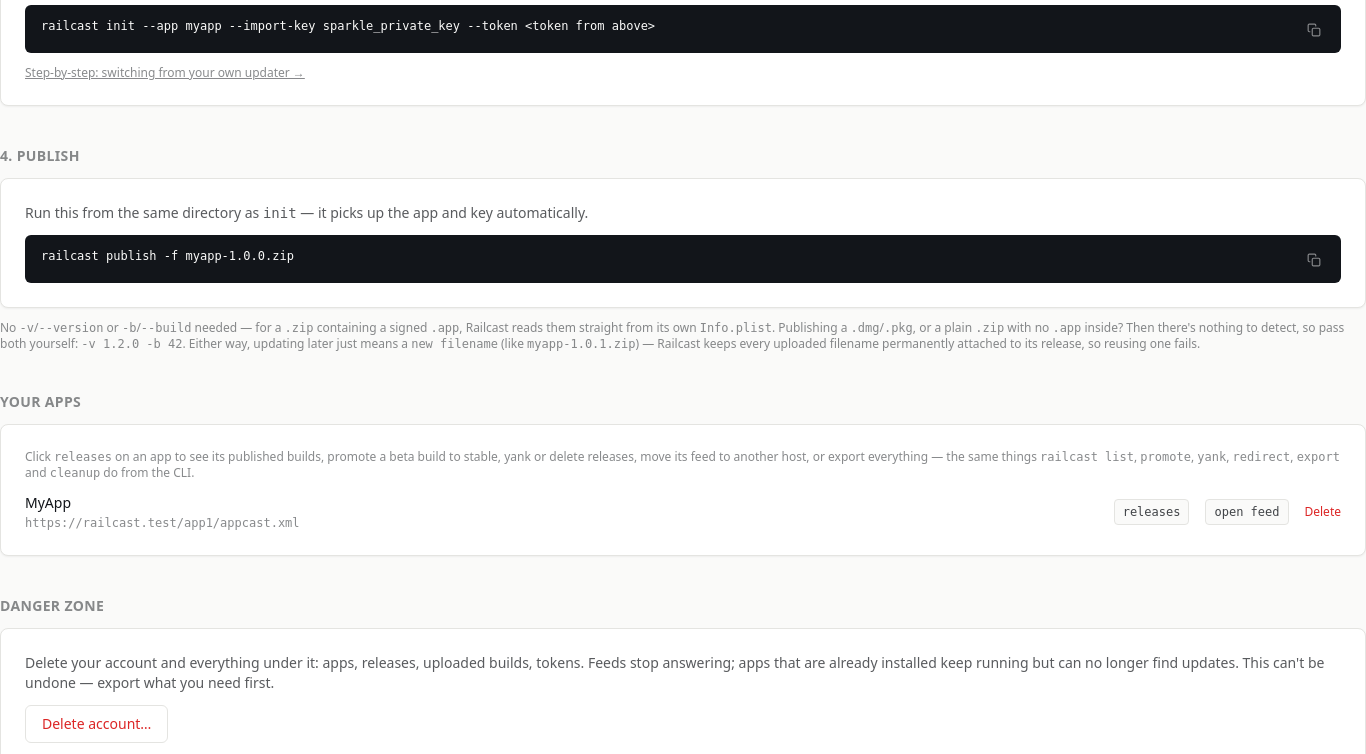
yank / restore › shows the server's reason when a release can't be yanked, and changes nothing
(page scrolled)
Click the button "releases": (1152, 512) [1114, 499, 1190, 525]
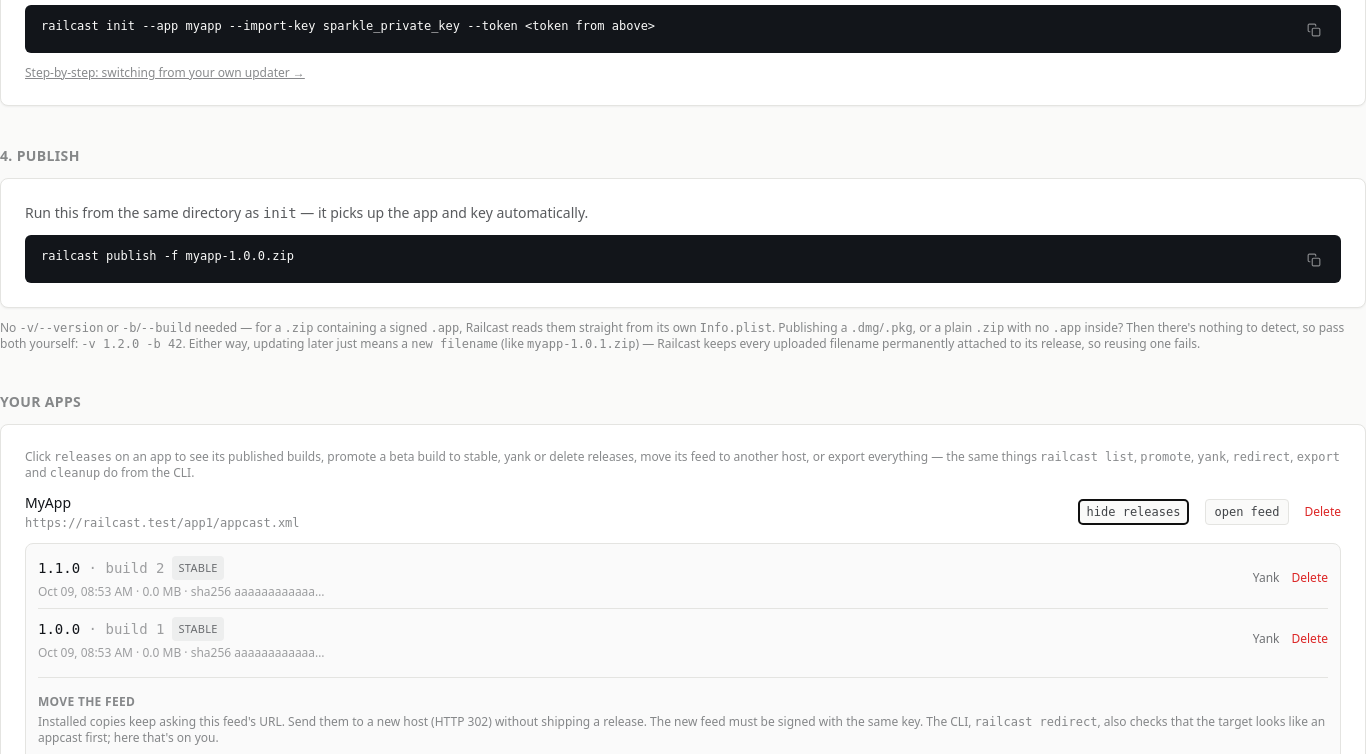
Expected: the text "1.1.0 · build 2" is shown, [38, 558, 164, 578]
Click the button with aria-label "Yank 1.1.0 (stable)": (1266, 578) [1253, 570, 1280, 586]
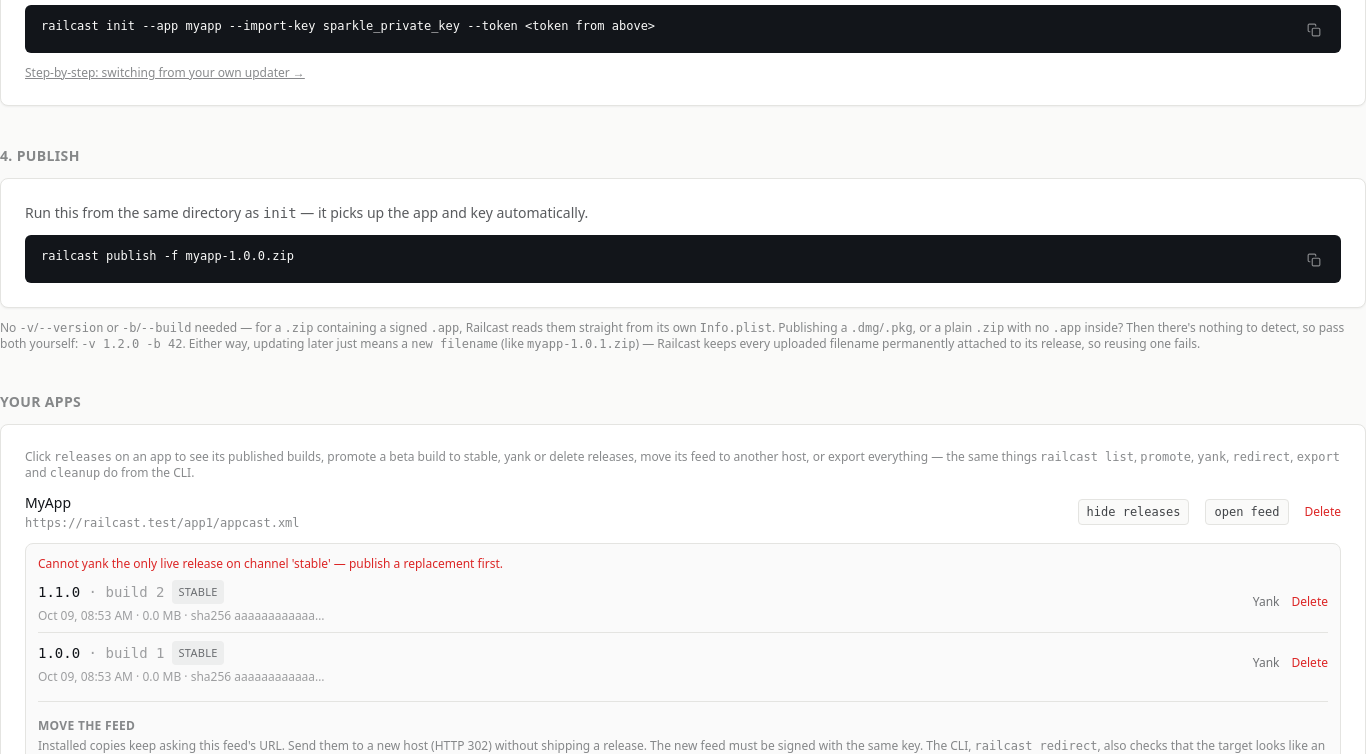
Expected: the button with aria-label "Yank 1.1.0 (stable)" is enabled, [1253, 594, 1280, 610]
Expected: the text "only live release" is shown, [38, 555, 503, 572]
